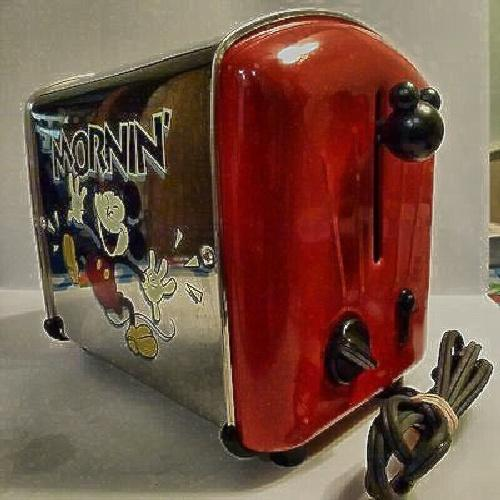toaster: (24, 27, 458, 462)
